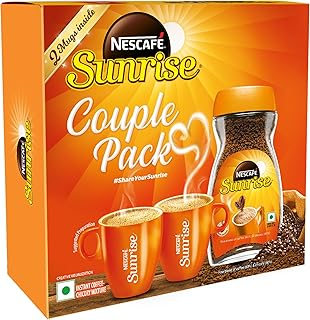Coffee: (1, 3, 310, 320)
